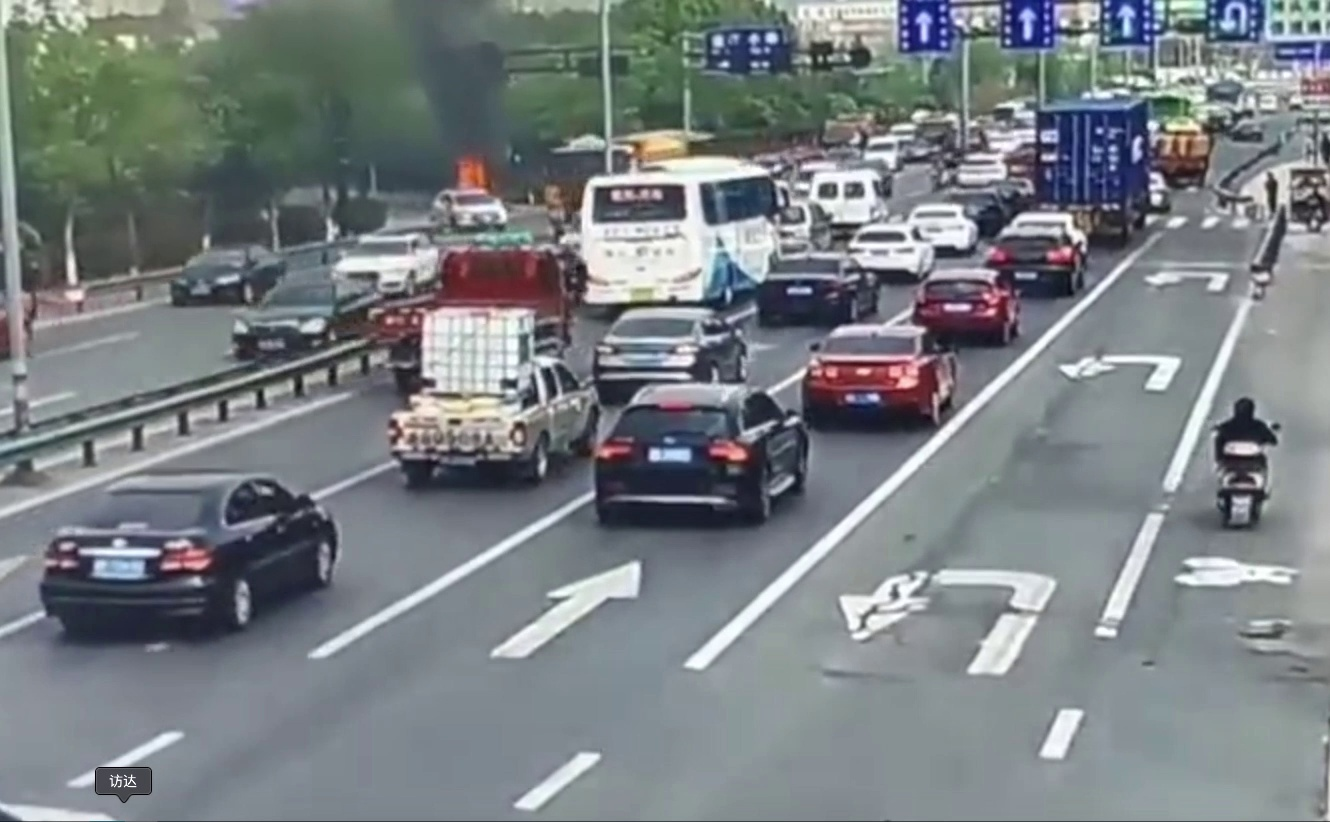smoke: (369, 11, 515, 177)
